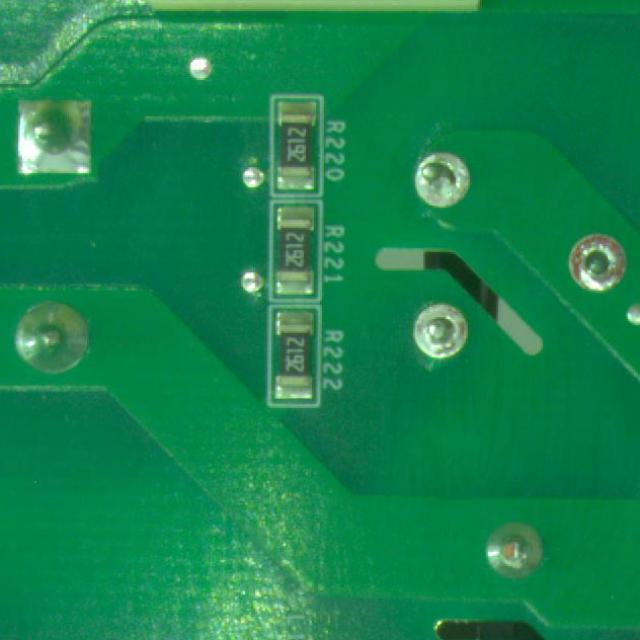oppostie_direction: (19, 101, 90, 173), (15, 302, 87, 373), (569, 234, 625, 292), (486, 522, 543, 578), (414, 304, 468, 359), (416, 153, 470, 207)
